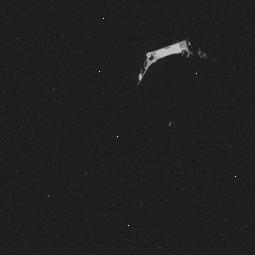lisa_pathfinder: (123, 37, 236, 135)
